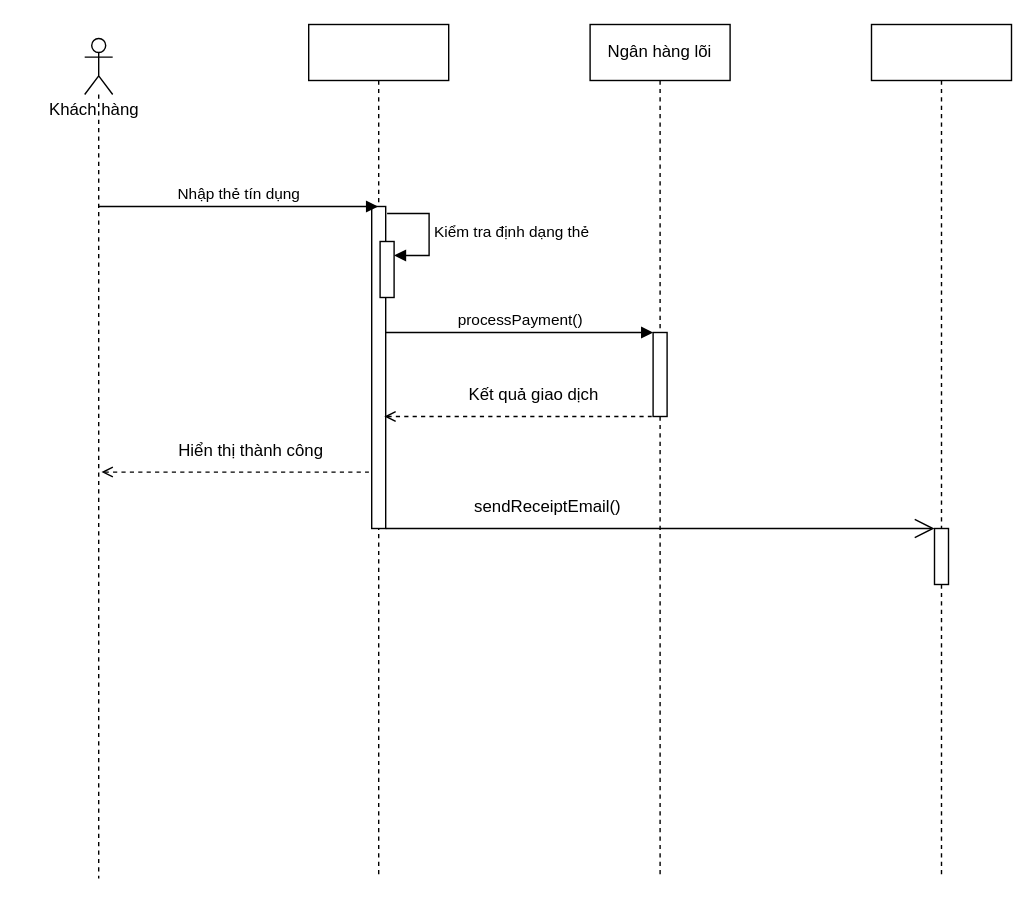
The diagram is 1036 pixels wide and 903 high, and some of its shapes have lost their labels. The box of each missing label's shape, as (x1, y1, x2, y2) in pixels:
Cổng thanh toán: (307, 23, 449, 878)
EmailServer: (870, 23, 1011, 878)
